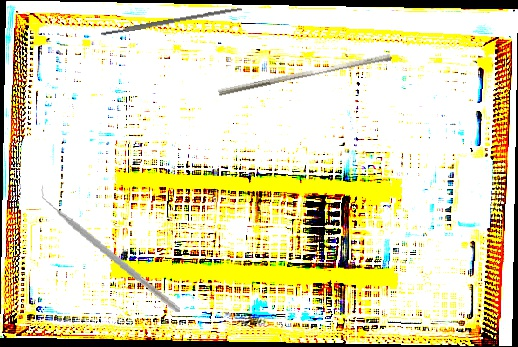Chopper: (27, 182, 195, 313)
Pusher: (217, 47, 392, 103)
Scalpel Handle: (100, 5, 243, 37)
